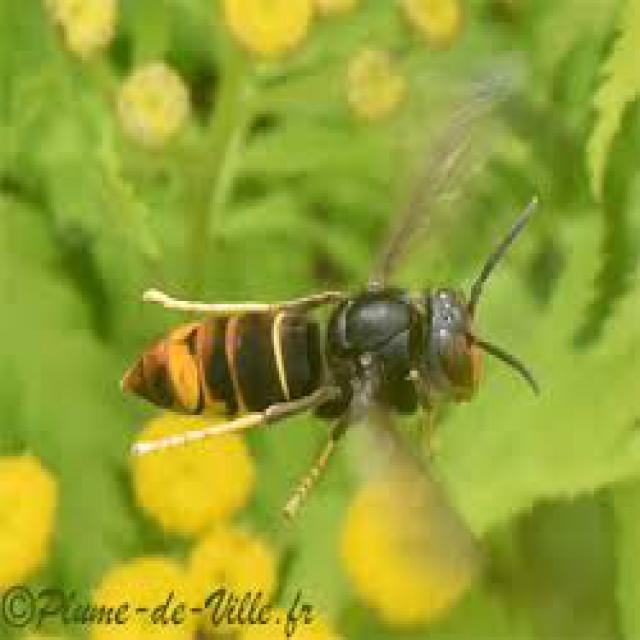Vespa Velutina: (108, 44, 548, 561)
